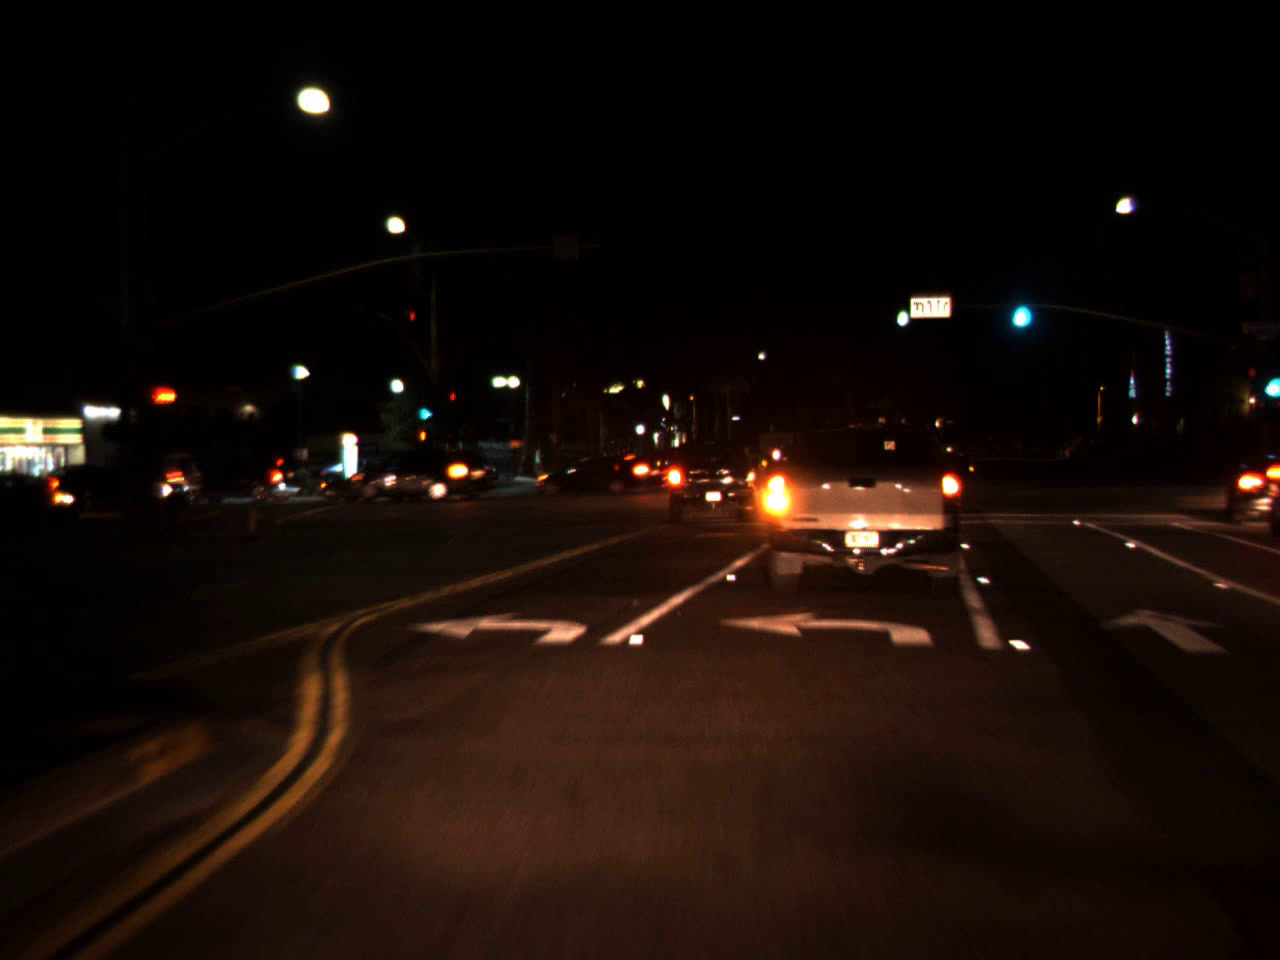go: (1004, 279, 1034, 336), (414, 390, 435, 426), (1260, 361, 1280, 397), (893, 292, 911, 331)
